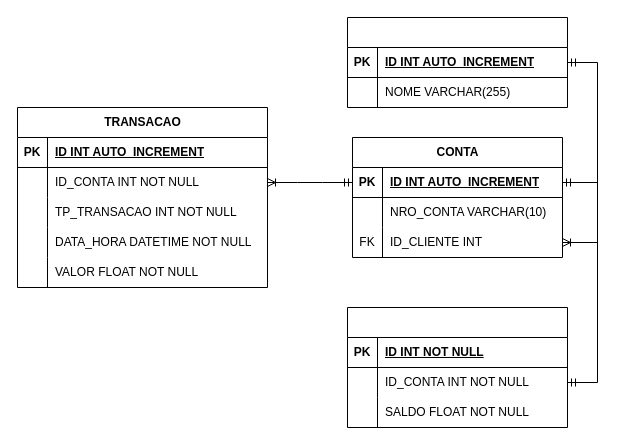
The diagram is 624 pixels wide and 445 high, and some of its shapes have lost their labels. The shapes that lost their labels are listed below. From the top down, each one's box as (x1, y1, x2, y2) in pixels, then its label:
(346, 16, 568, 108): CLIENTE
(346, 306, 568, 428): CARTEIRA
